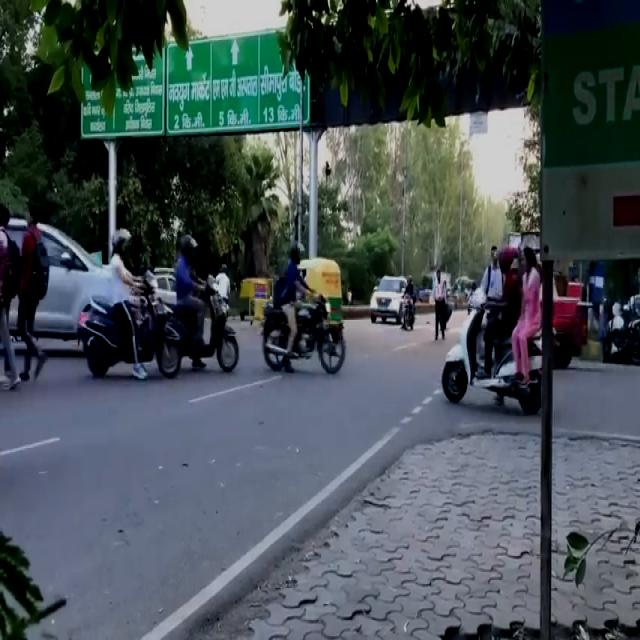MOTORCYCLE: (442, 290, 546, 417), (81, 294, 182, 380), (260, 296, 348, 376), (171, 276, 244, 360), (400, 292, 414, 330)
